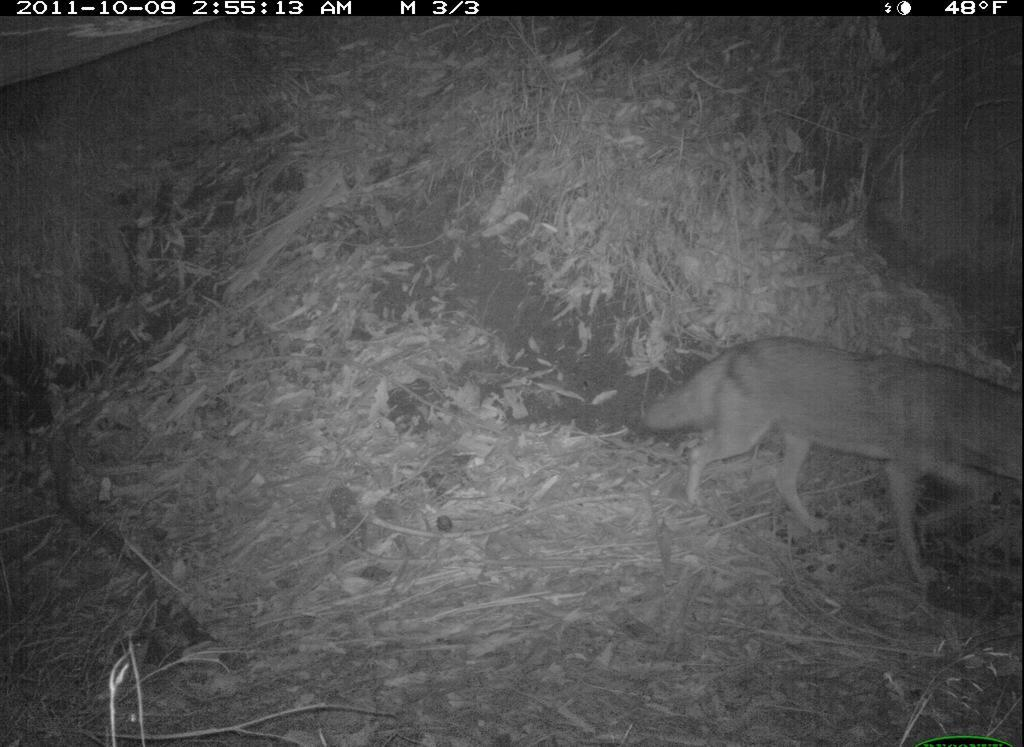coyote: (633, 332, 1022, 588)
